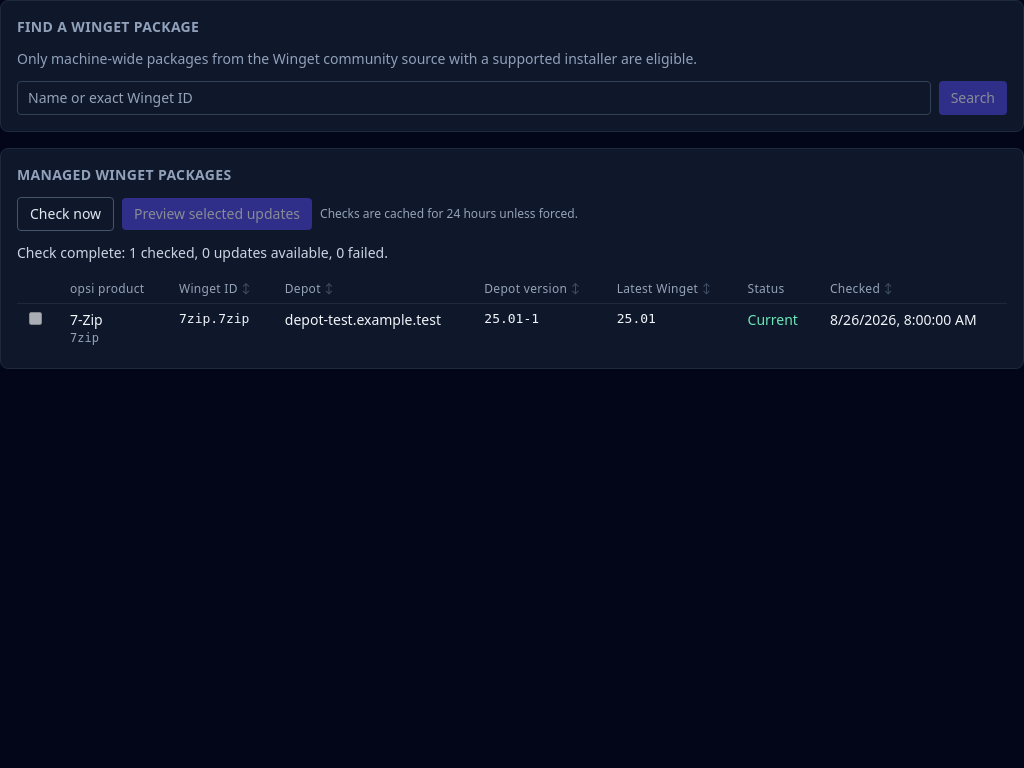
Test case: WingetPackagesWorkspace › shows check feedback and package details while keeping current packages unselectable
Expected: the text "Check complete: 1 checked, 0 updates available, 0 failed." is shown, [17,243,388,262]
Expected: the checkbox named "Select 7zip" is disabled, [29,312,42,325]
Click the text "7-Zip" at (86, 320), box [70,310,103,329]
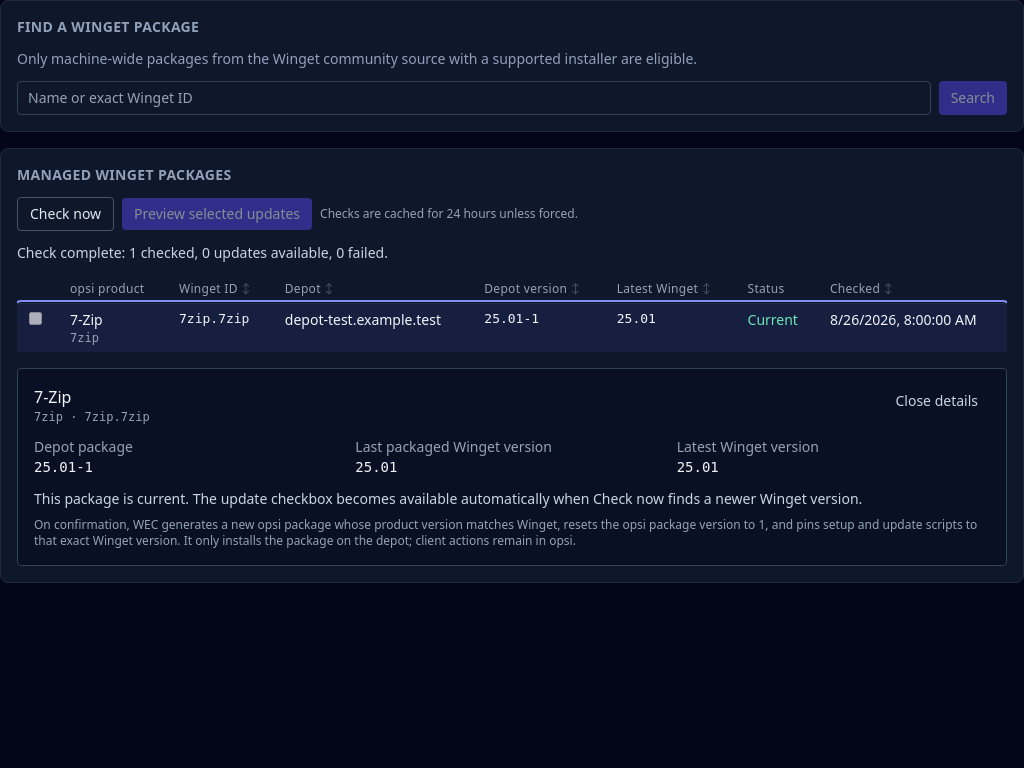
Now the text "This package is current. The update checkbox becomes available automatically when Check now finds a newer Winget version" is shown, box [34,489,862,508]
Now the text "generates a new opsi package whose product version matches Winget" is shown, box [34,516,977,549]
